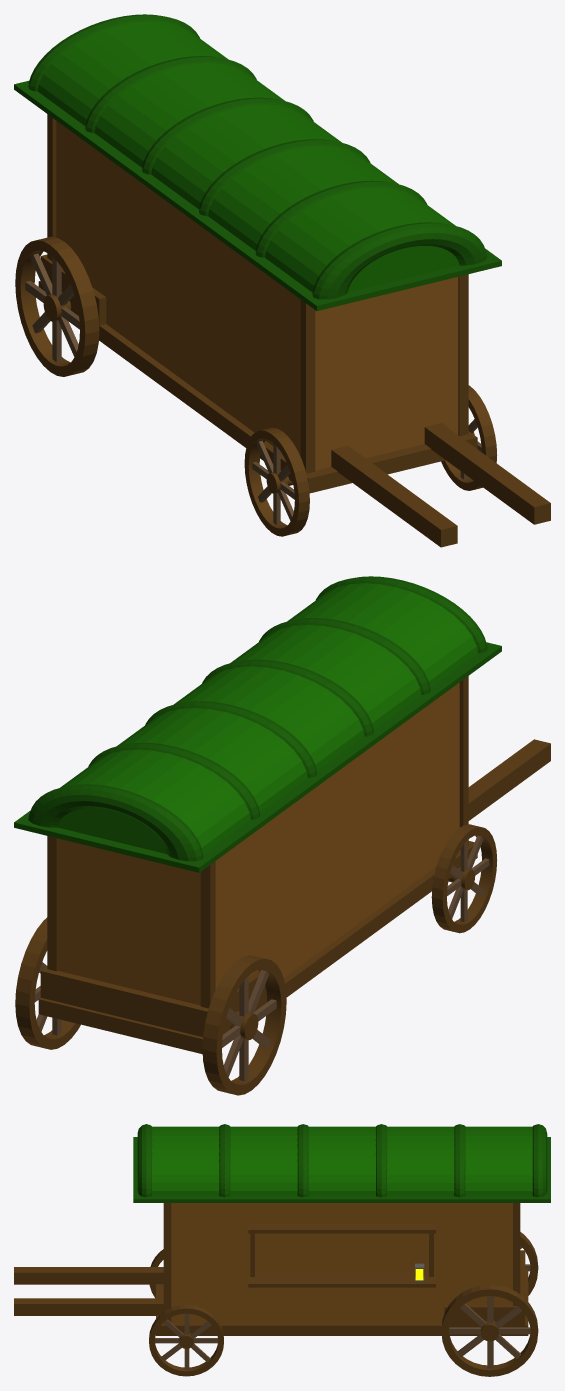
Rendered from TradeWagon.fbx.
3 views of the same model, one above another, from view 1: azimuth 30°, elevation 25°; view 2: azimuth 150°, elevation 25°; view 3: azimuth 270°, elevation 25° (orthographic). The views are drawn at different scales.
Visible parts, largest first — view 1: Roof, Cabin, Wheels, Base, Frame; view 2: Roof, Cabin, Wheels, Base, Frame; view 3: Cabin, Roof, Base, Wheels, Window, Frame.
Boxes of the visible parts, x1=… form: Roof: x1=14, y1=14, x2=501, y2=310; Cabin: x1=56, y1=121, x2=458, y2=470; Wheels: x1=15, y1=236, x2=496, y2=536; Base: x1=38, y1=254, x2=550, y2=547; Frame: x1=47, y1=114, x2=468, y2=473; Roof: x1=14, y1=576, x2=501, y2=872; Cabin: x1=57, y1=682, x2=459, y2=1005; Wheels: x1=15, y1=824, x2=497, y2=1095; Base: x1=38, y1=739, x2=550, y2=1054; Frame: x1=47, y1=676, x2=468, y2=1008; Cabin: x1=171, y1=1203, x2=512, y2=1323; Roof: x1=133, y1=1124, x2=550, y2=1202; Base: x1=14, y1=1250, x2=528, y2=1335; Wheels: x1=149, y1=1232, x2=538, y2=1376; Window: x1=248, y1=1223, x2=435, y2=1287; Frame: x1=163, y1=1203, x2=520, y2=1324.
Bounding box in the file's own units: 201 × 289 × 674.
